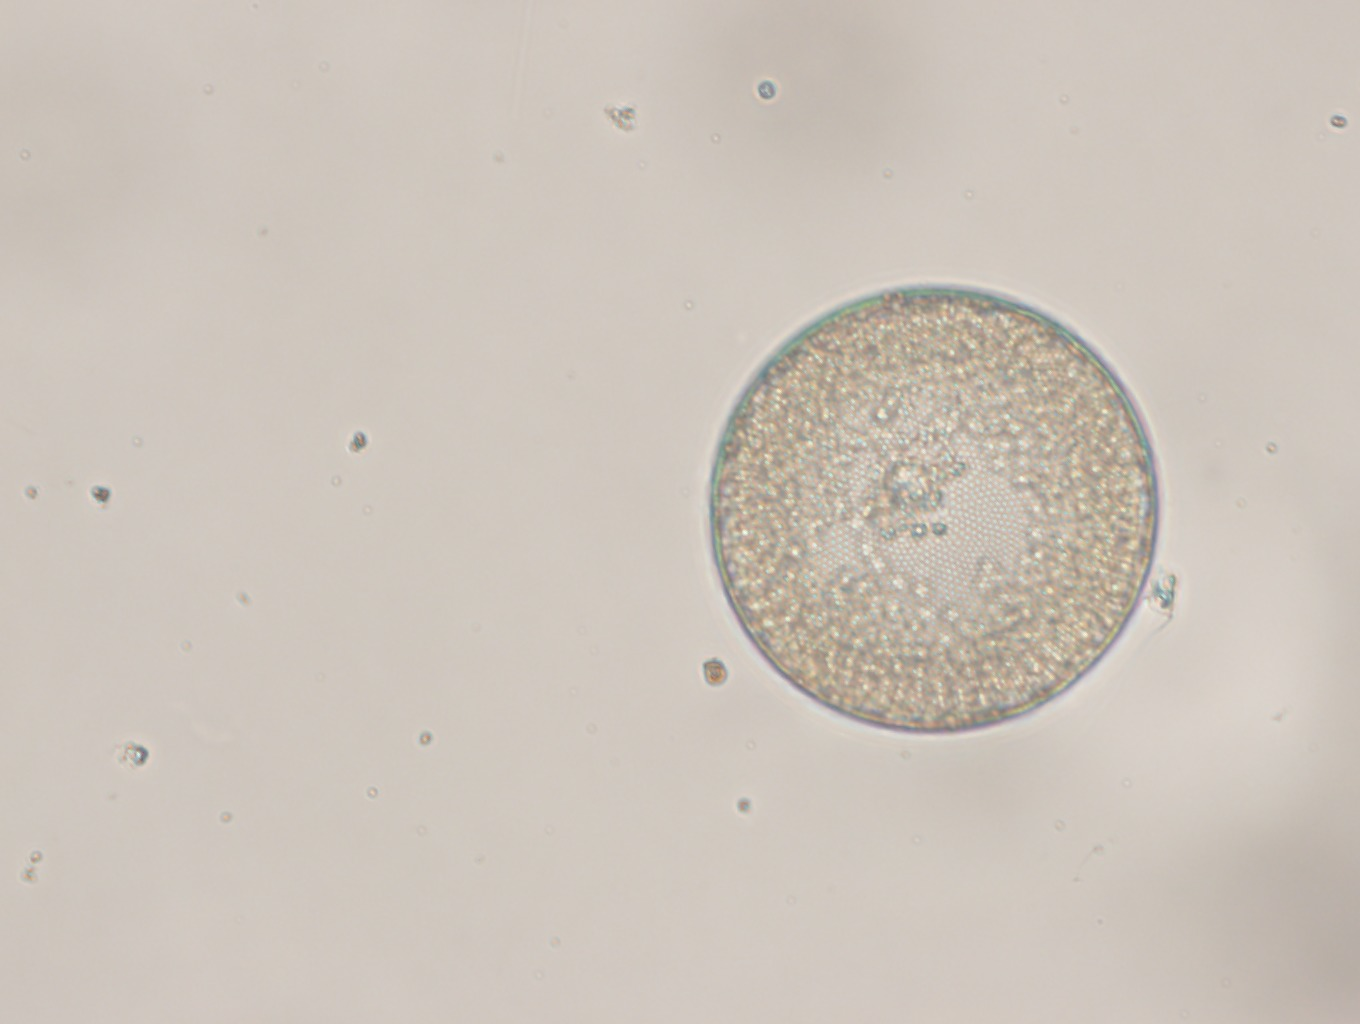coscinodiscus: (701, 279, 1166, 743)
